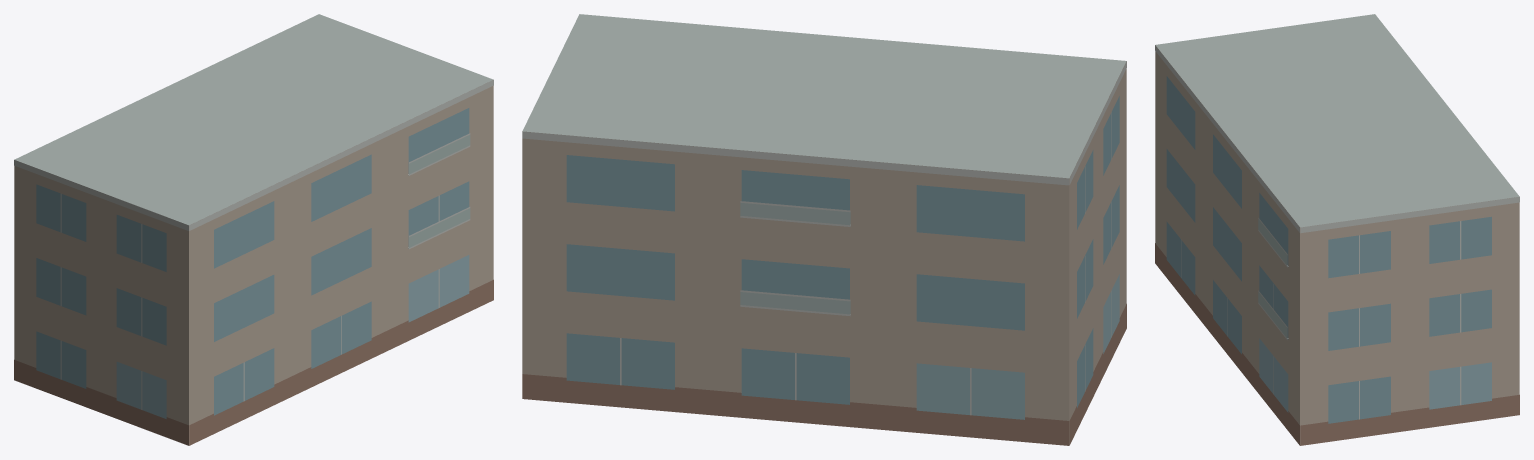
Rendered from survey-upis-32703734.glb.
3 renders of one model, left to right at view 1: azimuth 30°, elevation 25°; view 2: azimuth 150°, elevation 25°; view 3: azimuth 270°, elevation 25°, orthographic. The views are drawn at different scales.
Parts seen in each view (by area): view 1: survey-upis-32703734.tmp; view 2: survey-upis-32703734.tmp; view 3: survey-upis-32703734.tmp.
Part boxes in pixels (x1,y1,x2,y2): survey-upis-32703734.tmp: [14, 14, 493, 445]; survey-upis-32703734.tmp: [522, 14, 1126, 445]; survey-upis-32703734.tmp: [1155, 14, 1519, 445].
Bounding box in the file's own units: 19.19 × 9.15 × 13.86.
